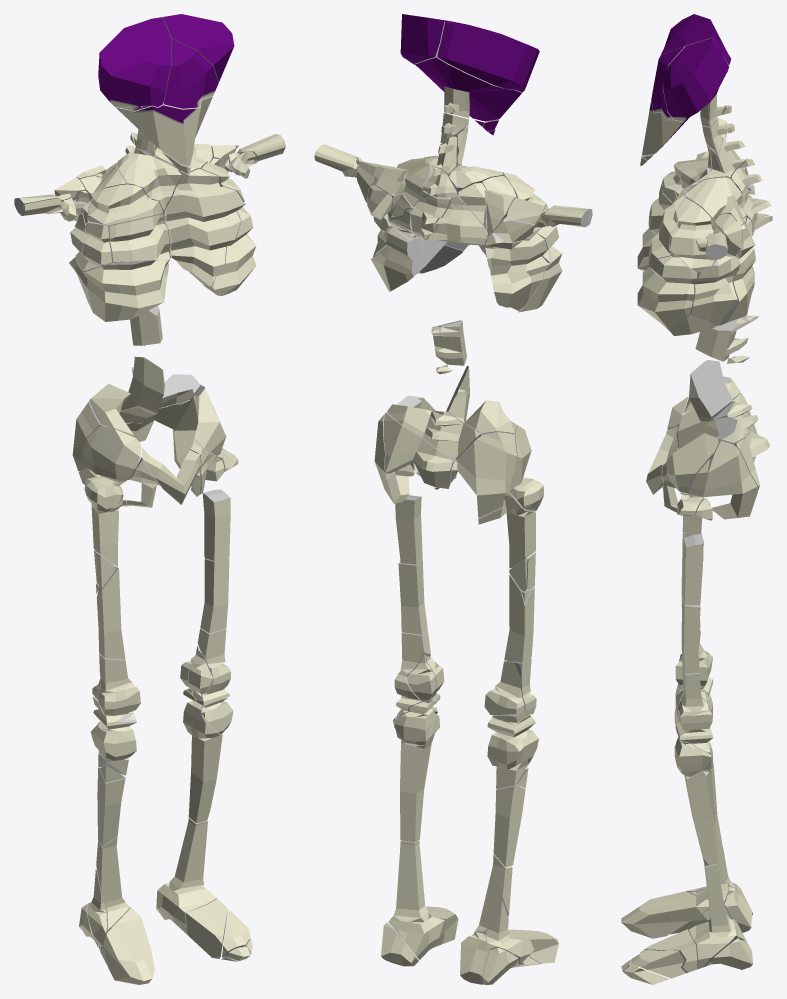
Rendered from Skinny Ago Cell.fbx.
The picture shows the model from 3 angles, left to right: view 1: azimuth 30°, elevation 25°; view 2: azimuth 150°, elevation 25°; view 3: azimuth 270°, elevation 25°; orthographic projection. The views are drawn at different scales.
Visible parts, largest first — view 1: Body_cell.013, Body_cell.118, Body_cell.105, Body_cell.063, Body_cell.120, Body_cell.084, Body_cell.031, Body_cell.099, Body_cell.069, Body_cell.056, Body_cell.104, Body_cell (+33 smaller); view 2: Body_cell.118, Body_cell.116, Body_cell.089, Body_cell.120, Body_cell.084, Body_cell.097, Body_cell.103, Body_cell.069, Body_cell.062, Body_cell.074, Body_cell.094, Body_cell.085 (+32 smaller); view 3: Body_cell, Body_cell.053, Body_cell.050, Body_cell.099, Body_cell.120, Body_cell.067, Body_cell.031, Body_cell.023, Body_cell.069, Body_cell.111, Body_cell.045, Body_cell.049 (+35 smaller).
Boxes of the visible parts, x1,y1,x2,y2 form: Body_cell.013: (162, 169, 243, 286); Body_cell.118: (98, 17, 171, 110); Body_cell.105: (82, 259, 169, 321); Body_cell.063: (80, 426, 140, 513); Body_cell.120: (156, 817, 216, 934); Body_cell.084: (115, 96, 212, 165); Body_cell.031: (89, 356, 164, 435); Body_cell.099: (103, 908, 154, 984); Body_cell.069: (186, 714, 222, 823); Body_cell.056: (163, 39, 218, 108); Body_cell.104: (107, 213, 169, 262); Body_cell: (163, 14, 234, 82); Body_cell.118: (437, 22, 539, 92); Body_cell.116: (484, 227, 548, 310); Body_cell.089: (451, 432, 517, 518); Body_cell.120: (389, 840, 445, 959); Body_cell.084: (415, 57, 522, 121); Body_cell.097: (383, 413, 455, 488); Body_cell.103: (487, 711, 538, 788); Body_cell.069: (400, 713, 440, 841); Body_cell.062: (387, 404, 481, 459); Body_cell.074: (371, 227, 447, 291); Body_cell.094: (493, 784, 525, 867); Body_cell.085: (504, 574, 534, 662); Body_cell: (663, 38, 728, 121); Body_cell.053: (637, 252, 697, 331); Body_cell.050: (696, 440, 757, 520); Body_cell.099: (621, 891, 709, 938); Body_cell.120: (689, 863, 747, 969); Body_cell.067: (685, 255, 739, 326); Body_cell.031: (684, 360, 740, 423); Body_cell.023: (670, 198, 715, 272); Body_cell.069: (674, 745, 717, 865); Body_cell.111: (665, 431, 720, 494); Body_cell.045: (684, 177, 746, 225); Body_cell.049: (695, 315, 756, 363).
Bounding box in the file's own units: 0.5838 × 0.2947 × 1.98.
